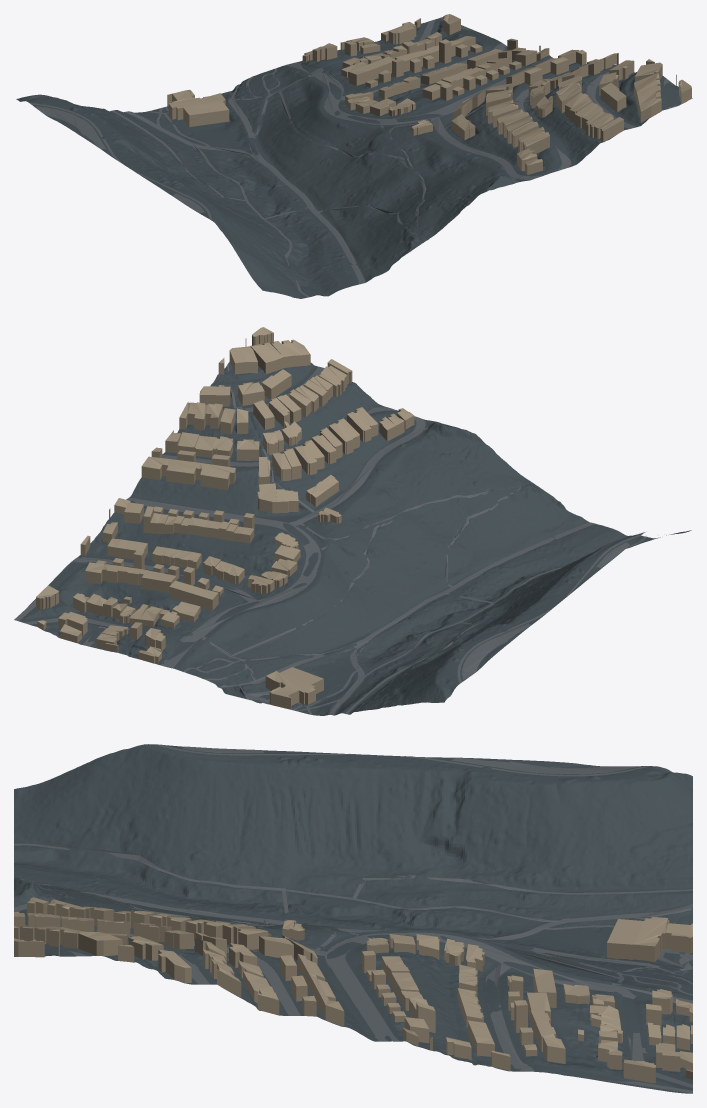
Rendered from epsg26910-1430-10877.lod0.glb.
3 renders of one model, top to bottom at view 1: azimuth 30°, elevation 25°; view 2: azimuth 150°, elevation 25°; view 3: azimuth 270°, elevation 25°, orthographic. The views are drawn at different scales.
Parts seen in each view (by area): view 1: epsg26910-1430-10877-lod0; view 2: epsg26910-1430-10877-lod0; view 3: epsg26910-1430-10877-lod0.
Part boxes in pixels (box(x1,y1,x2,y2)): epsg26910-1430-10877-lod0: box(16, 14, 692, 298); epsg26910-1430-10877-lod0: box(14, 327, 691, 715); epsg26910-1430-10877-lod0: box(14, 744, 692, 1093).
Size of the model in its own units: 384 by 116 by 384.
